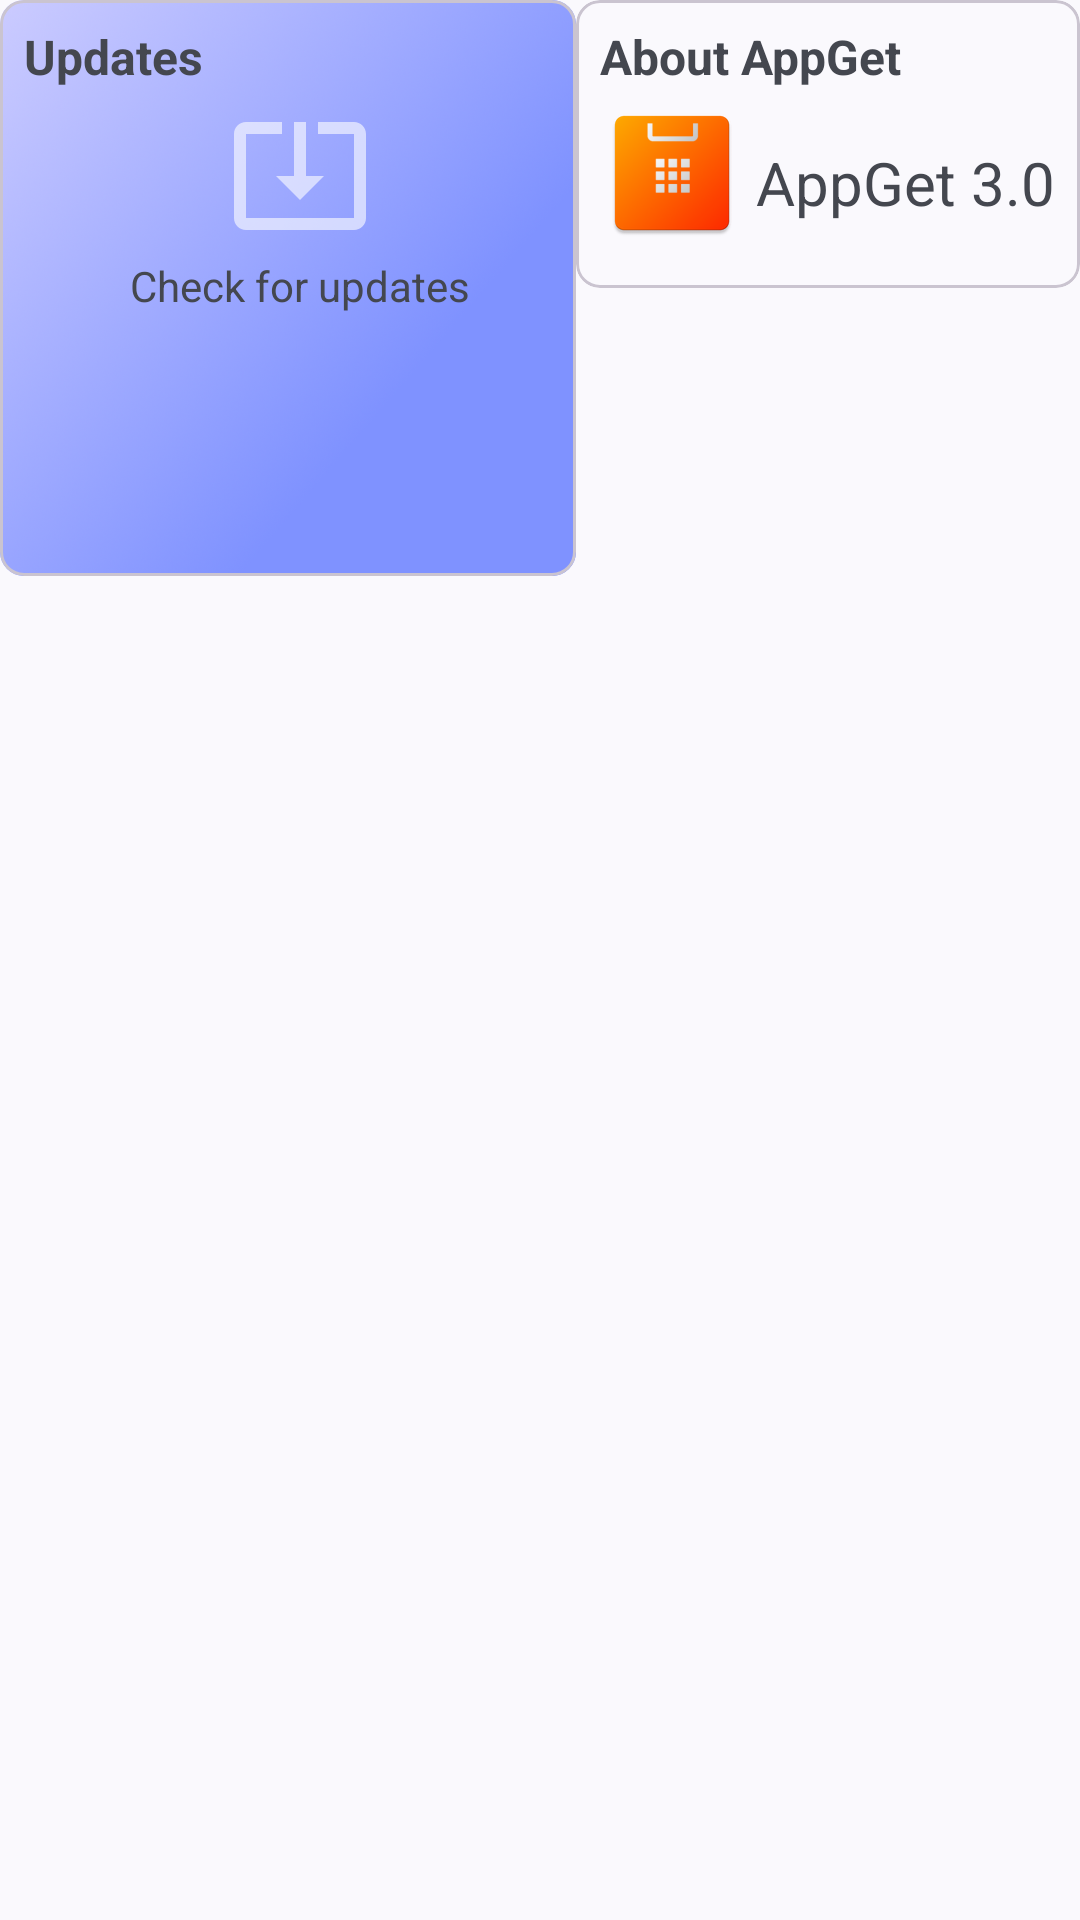

Icon click points for this 1080×1920 phone screenshot, format [x,y]:
system update: [300,176]
